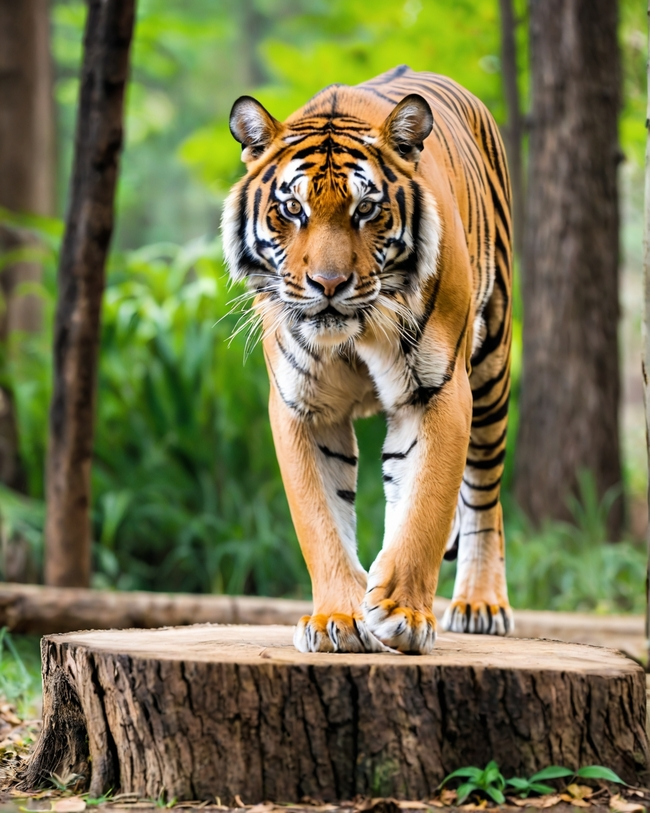tiger: (213, 65, 518, 654)
